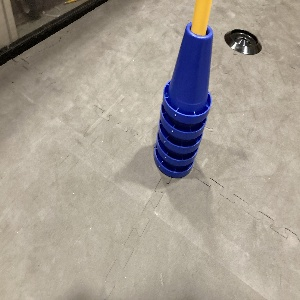Blue_5: (152, 22, 214, 175)
